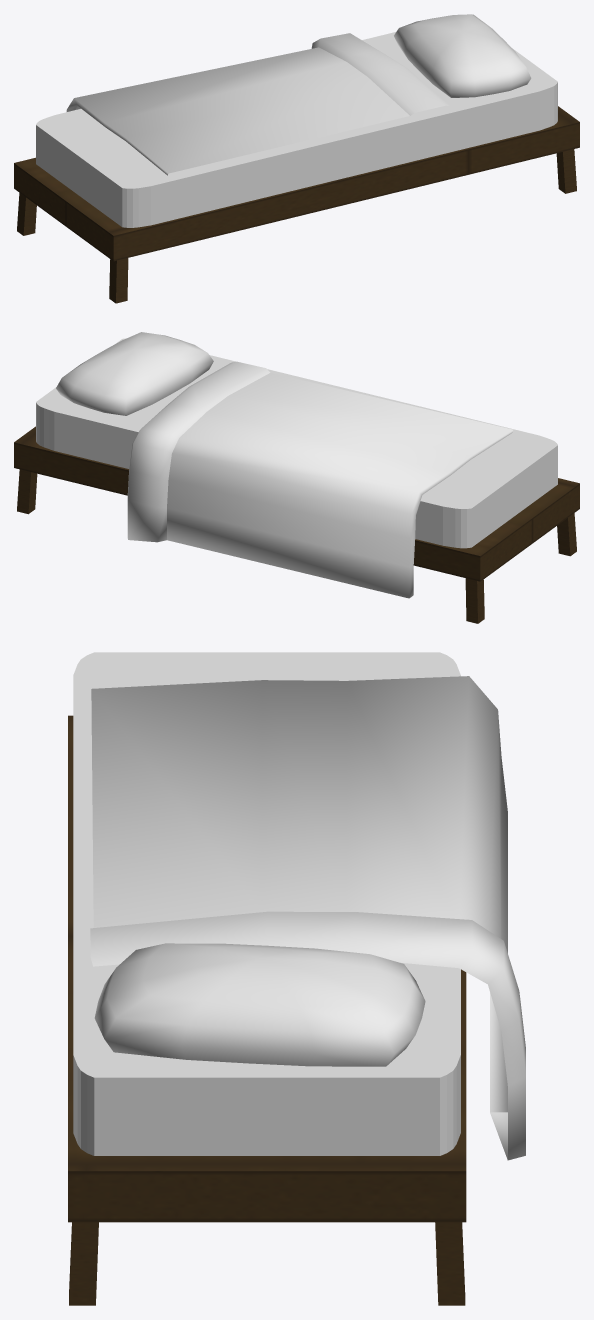
File: bed 1.fbx
3 views of the same model, one above another, from view 1: azimuth 30°, elevation 25°; view 2: azimuth 150°, elevation 25°; view 3: azimuth 270°, elevation 25° (orthographic). The views are drawn at different scales.
Visible parts, largest first — view 1: bedMatress, bedDuvet, bedFrame, bedPillow, bedSheet; view 2: bedDuvet, bedMatress, bedFrame, bedPillow, bedSheet; view 3: bedDuvet, bedMatress, bedFrame, bedPillow, bedSheet.
Part boxes in pixels (x1=…): bedMatress: x1=36, y1=32, x2=557, y2=227; bedDuvet: x1=66, y1=47, x2=409, y2=175; bedFrame: x1=14, y1=106, x2=579, y2=303; bedPillow: x1=394, y1=14, x2=531, y2=97; bedSheet: x1=311, y1=33, x2=449, y2=115; bedDuvet: x1=167, y1=373, x2=512, y2=598; bedMatress: x1=36, y1=338, x2=557, y2=548; bedFrame: x1=14, y1=426, x2=579, y2=623; bedPillow: x1=56, y1=332, x2=213, y2=415; bedSheet: x1=127, y1=361, x2=270, y2=542; bedDuvet: x1=91, y1=676, x2=507, y2=1112; bedMatress: x1=73, y1=652, x2=460, y2=1155; bedFrame: x1=68, y1=715, x2=466, y2=1305; bedPillow: x1=94, y1=943, x2=425, y2=1066; bedSheet: x1=90, y1=911, x2=525, y2=1160.
Bounding box in the file's own units: 174 × 50.23 × 73.86.
